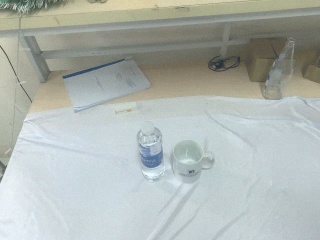bottle: (262, 38, 296, 100), (137, 121, 165, 183)
cup: (171, 140, 215, 184)
